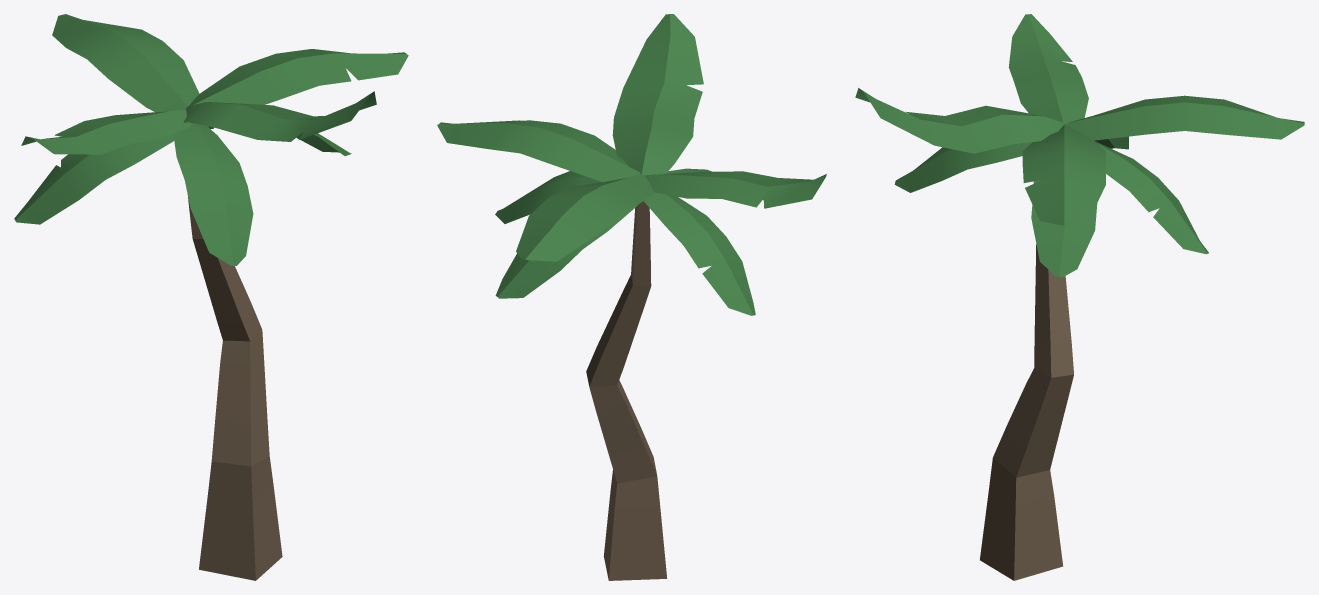
File: tree mini 1.glb
The picture shows the model from 3 angles, left to right: view 1: azimuth 30°, elevation 25°; view 2: azimuth 150°, elevation 25°; view 3: azimuth 270°, elevation 25°; orthographic projection. The views are drawn at different scales.
Parts seen in each view (by area): view 1: Plane.040; view 2: Plane.040; view 3: Plane.040.
Boxes of the visible parts, x1,y1,x2,y2 form: Plane.040: [14, 14, 408, 580]; Plane.040: [437, 14, 826, 580]; Plane.040: [855, 14, 1304, 580].
Bounding box in the file's own units: 0.9737 × 1.22 × 0.9987.
